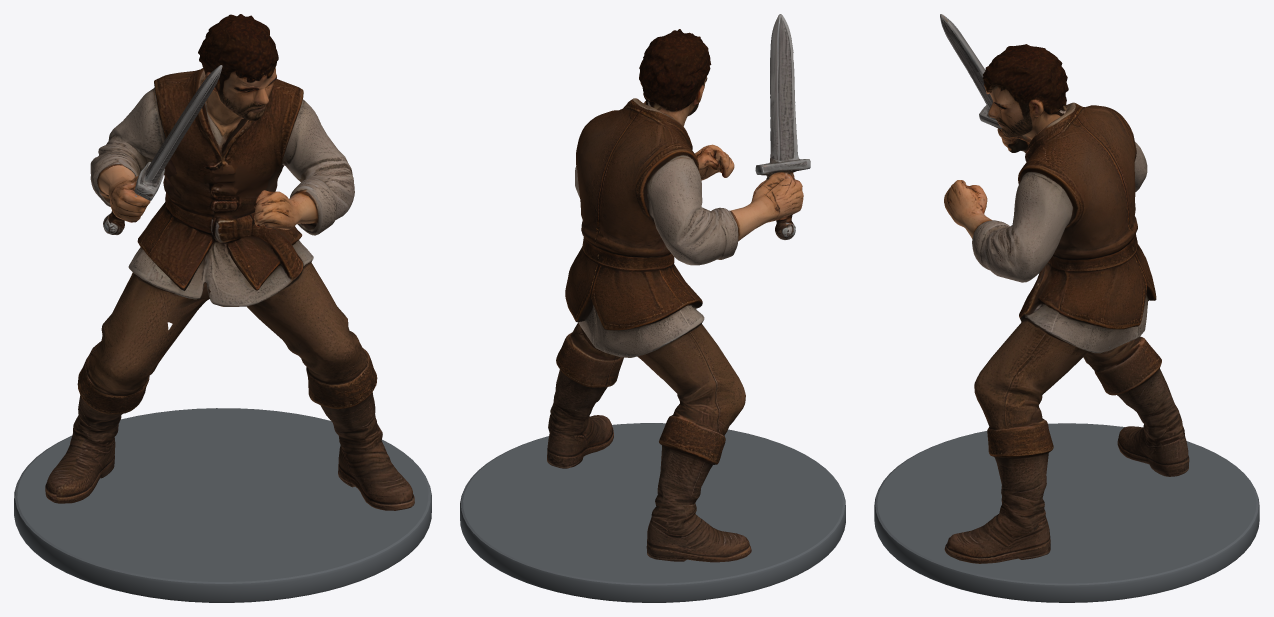
The model's file is human-bandit-hybrid-f80b0aef3b0b.glb.
The picture shows the model from 3 angles, left to right: view 1: azimuth 30°, elevation 25°; view 2: azimuth 150°, elevation 25°; view 3: azimuth 270°, elevation 25°; orthographic projection. The views are drawn at different scales.
Parts seen in each view (by area): view 1: comparison-bandit-hybrid_body, comparison-bandit-hybrid_round_base; view 2: comparison-bandit-hybrid_body, comparison-bandit-hybrid_round_base; view 3: comparison-bandit-hybrid_body, comparison-bandit-hybrid_round_base.
Boxes of the visible parts, x1,y1,x2,y2 form: comparison-bandit-hybrid_body: (45, 14, 414, 510); comparison-bandit-hybrid_round_base: (14, 408, 431, 602); comparison-bandit-hybrid_body: (547, 14, 810, 562); comparison-bandit-hybrid_round_base: (460, 423, 845, 602); comparison-bandit-hybrid_body: (940, 14, 1189, 563); comparison-bandit-hybrid_round_base: (874, 423, 1259, 602).
Bounding box in the file's own units: 1 × 1.37 × 1.
2 materials, 1 textured.
